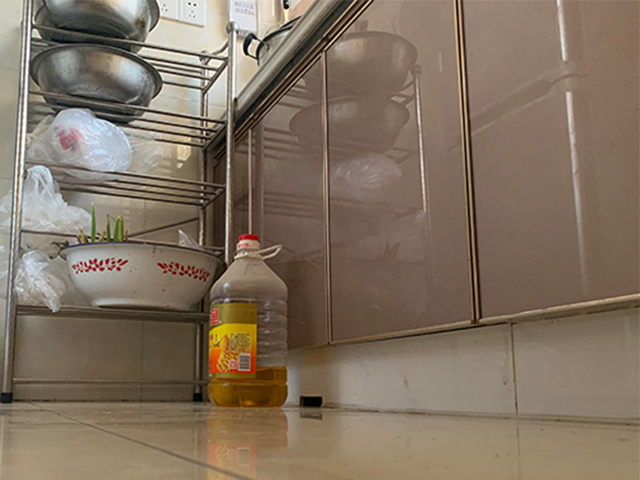cabinet: (237, 1, 640, 426)
